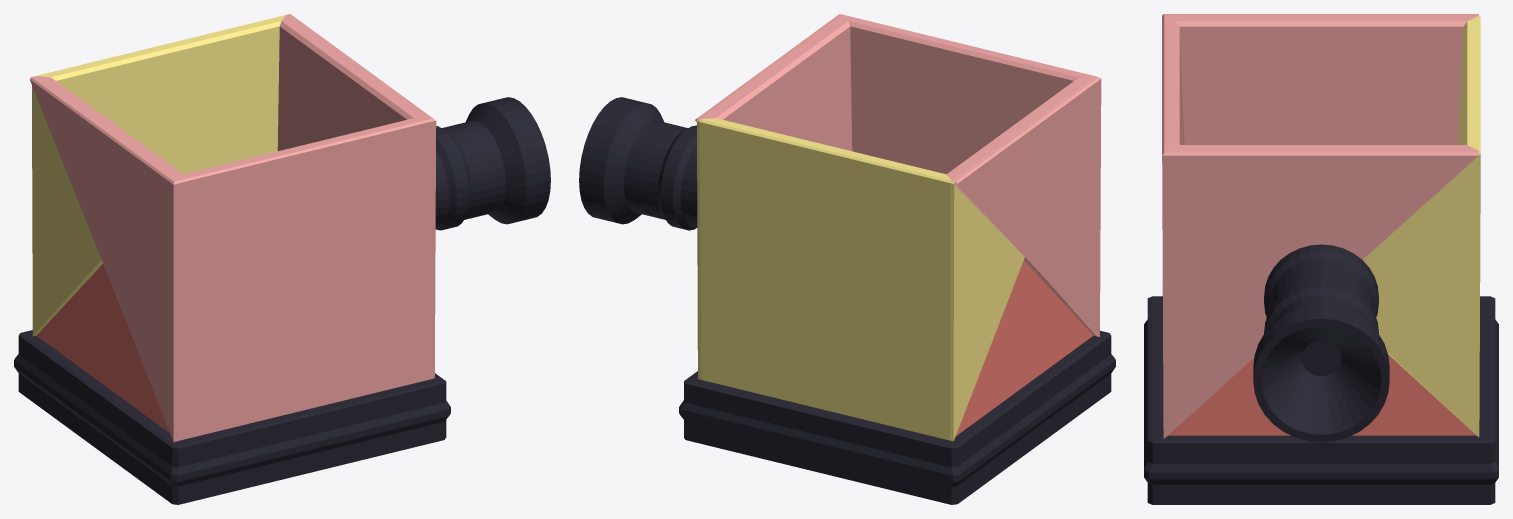
The model's file is scouttank.fbx.
3 renders of one model, left to right at view 1: azimuth 30°, elevation 25°; view 2: azimuth 150°, elevation 25°; view 3: azimuth 270°, elevation 25°, orthographic. The views are drawn at different scales.
Parts seen in each view (by area): view 1: box, base, turret; view 2: box, base, turret; view 3: box, base, turret.
Part boxes in pixels (x1,y1,x2,y2): box: (29,14,436,441); base: (14,330,450,504); turret: (435,97,550,230); box: (695,14,1101,441); base: (679,330,1115,504); turret: (579,97,697,230); box: (1162,14,1480,438); base: (1144,296,1498,504); turret: (1253,244,1389,442).
Bounding box in the file's own units: 790 × 561 × 517.
